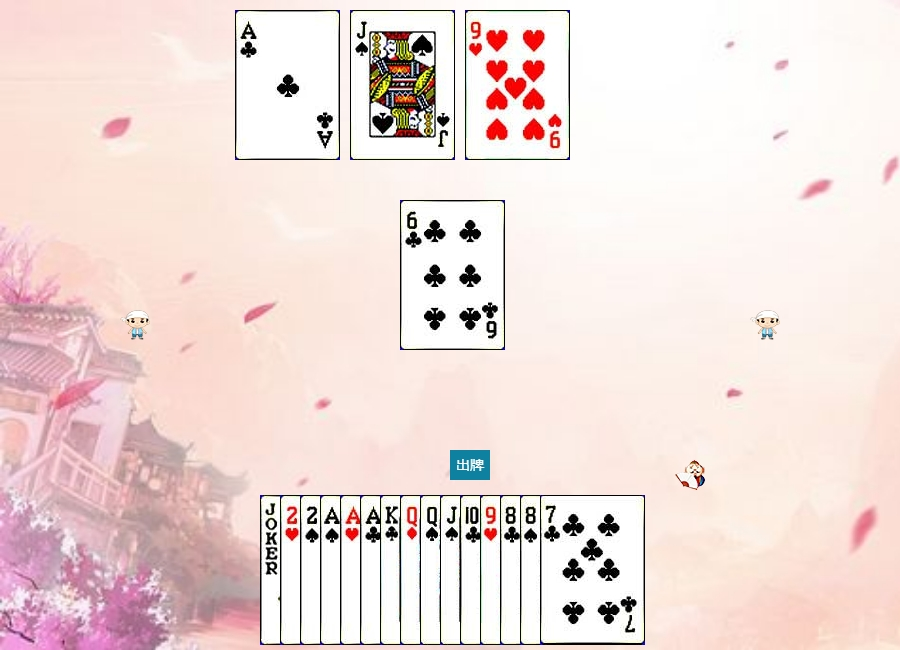10~2: (460, 495, 565, 645)
11~4: (350, 10, 455, 160), (440, 495, 545, 645)
12~1: (400, 495, 505, 645)
12~4: (420, 495, 525, 645)
13~2: (380, 495, 485, 645)
14~2: (235, 10, 340, 160), (360, 495, 465, 645)
14~3: (340, 495, 445, 645)
14~4: (320, 495, 425, 645)
15~3: (280, 495, 385, 645)
15~4: (300, 495, 405, 645)
17~3: (260, 495, 365, 645)
6~2: (400, 200, 505, 350)
7~2: (540, 495, 645, 645)
8~2: (500, 495, 605, 645)
8~4: (520, 495, 625, 645)
9~3: (465, 10, 570, 160), (480, 495, 585, 645)
